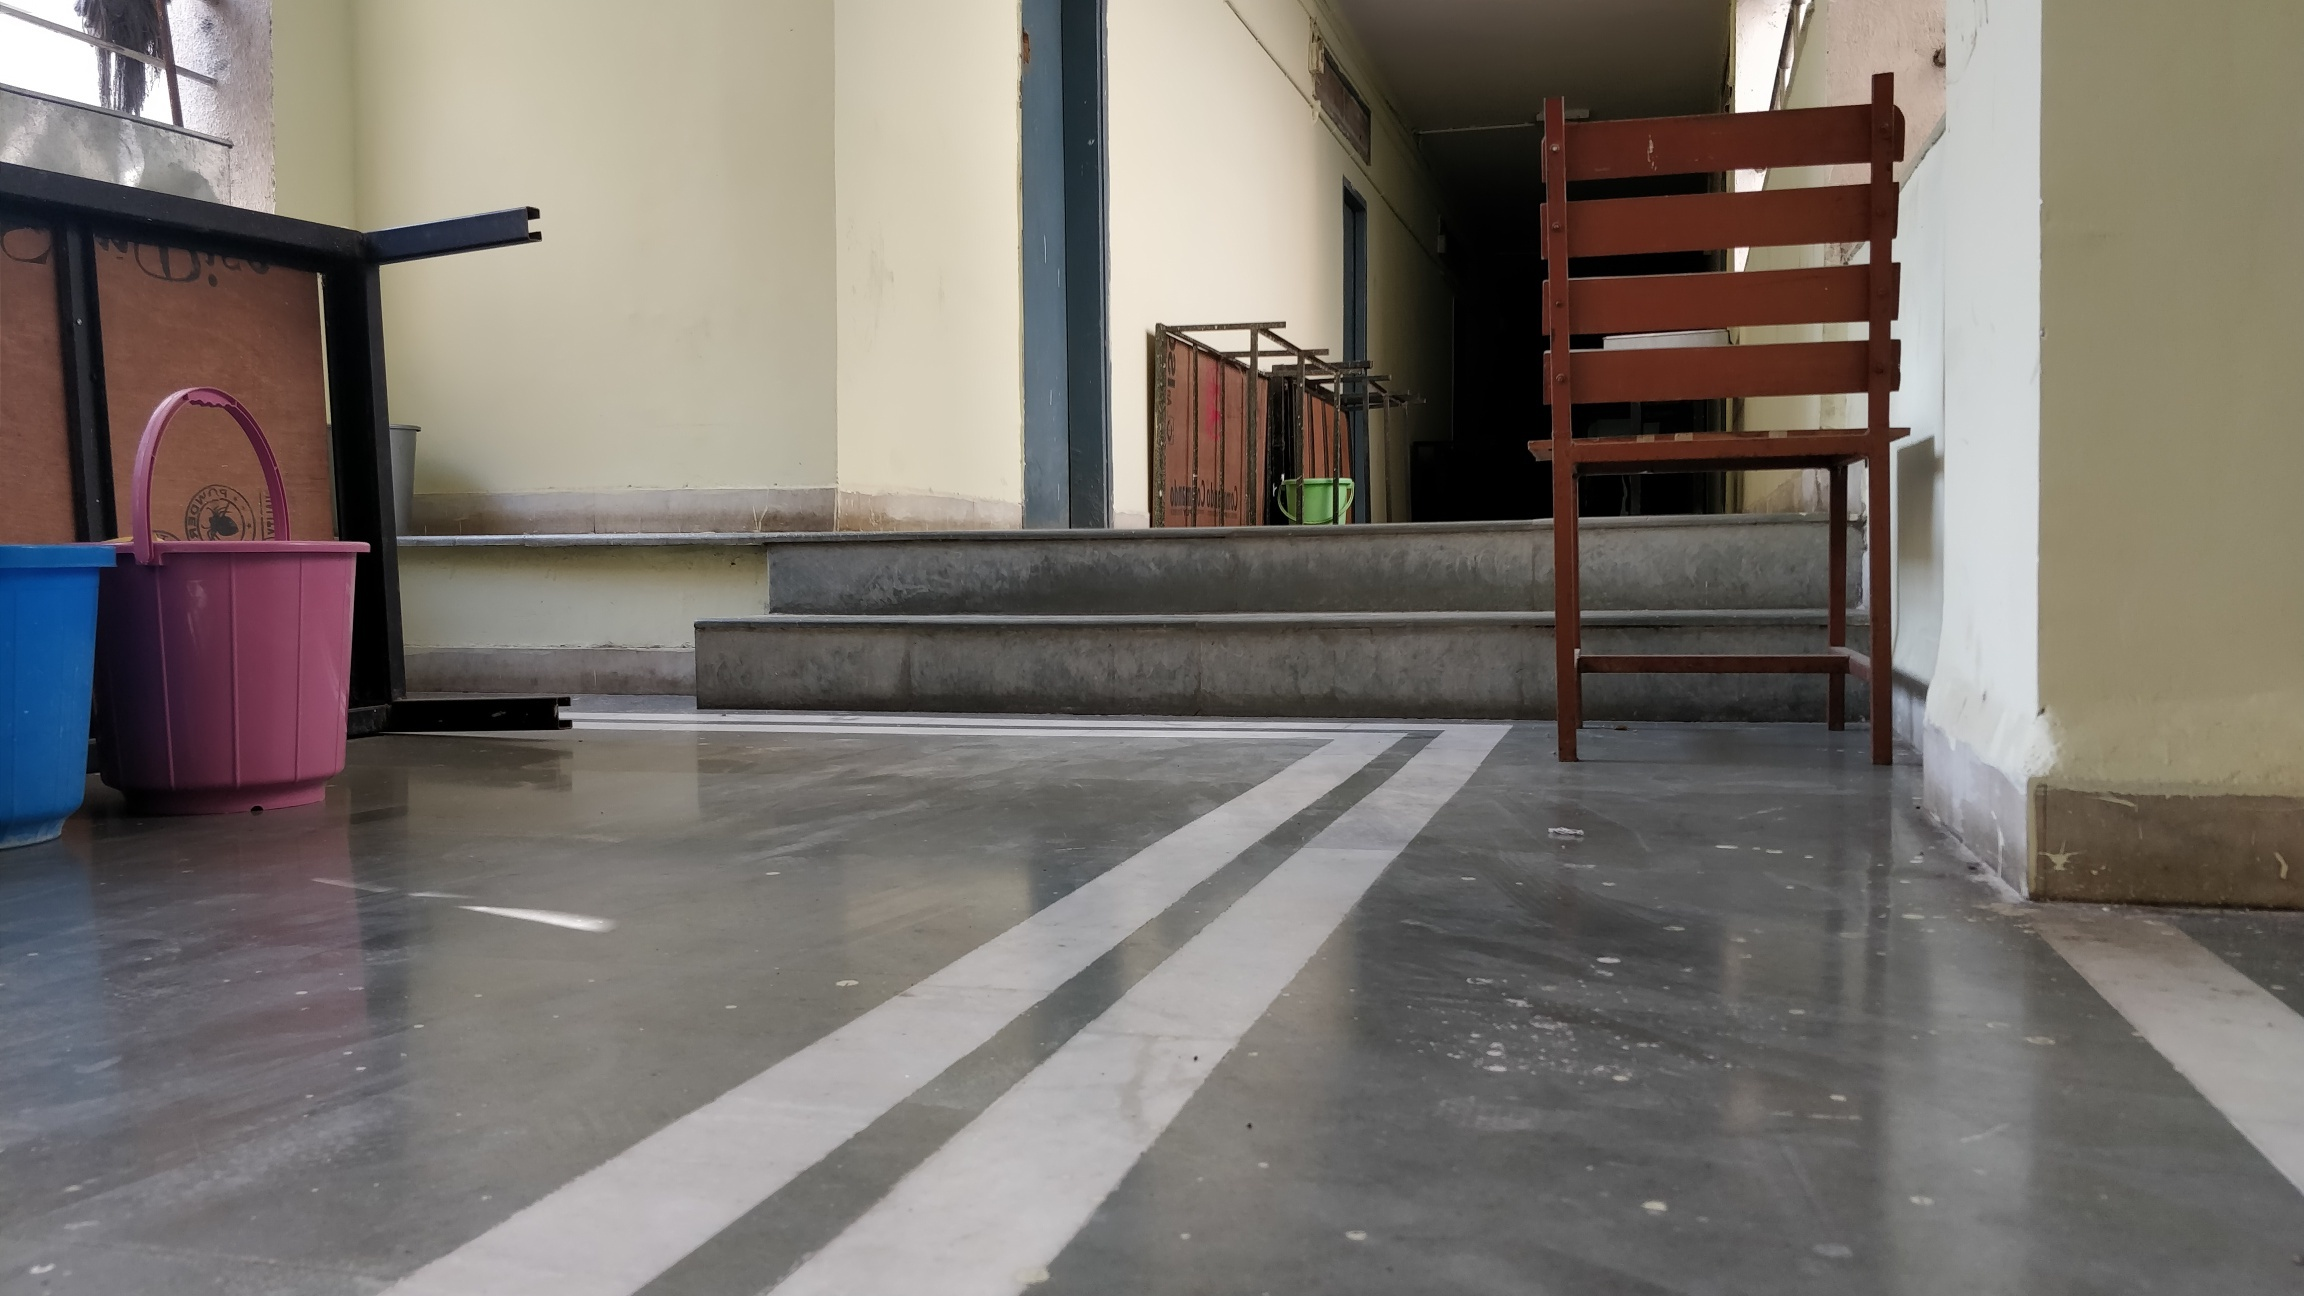stairs_up: (699, 524, 1532, 755)
